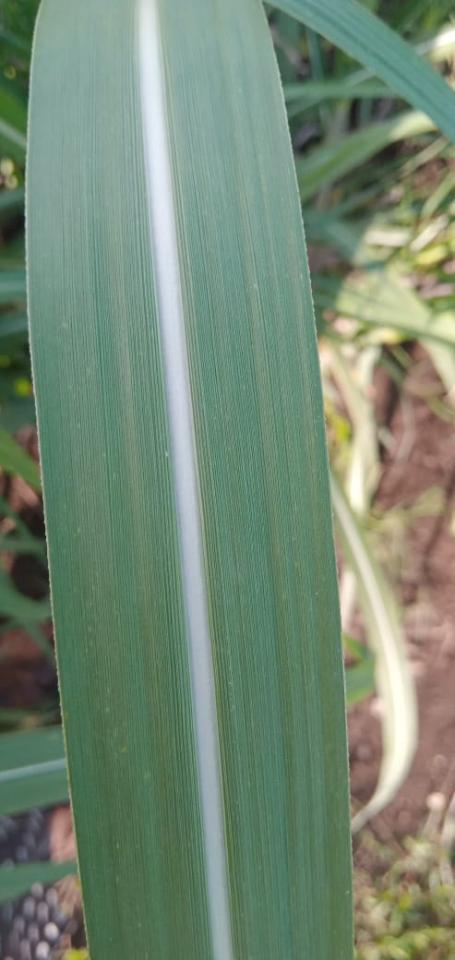Healthy: (158, 0, 352, 959), (30, 0, 214, 959)
